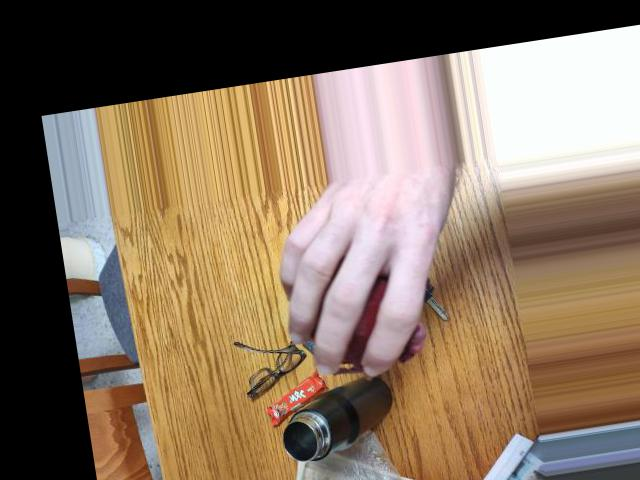onion: (284, 247, 429, 360)
